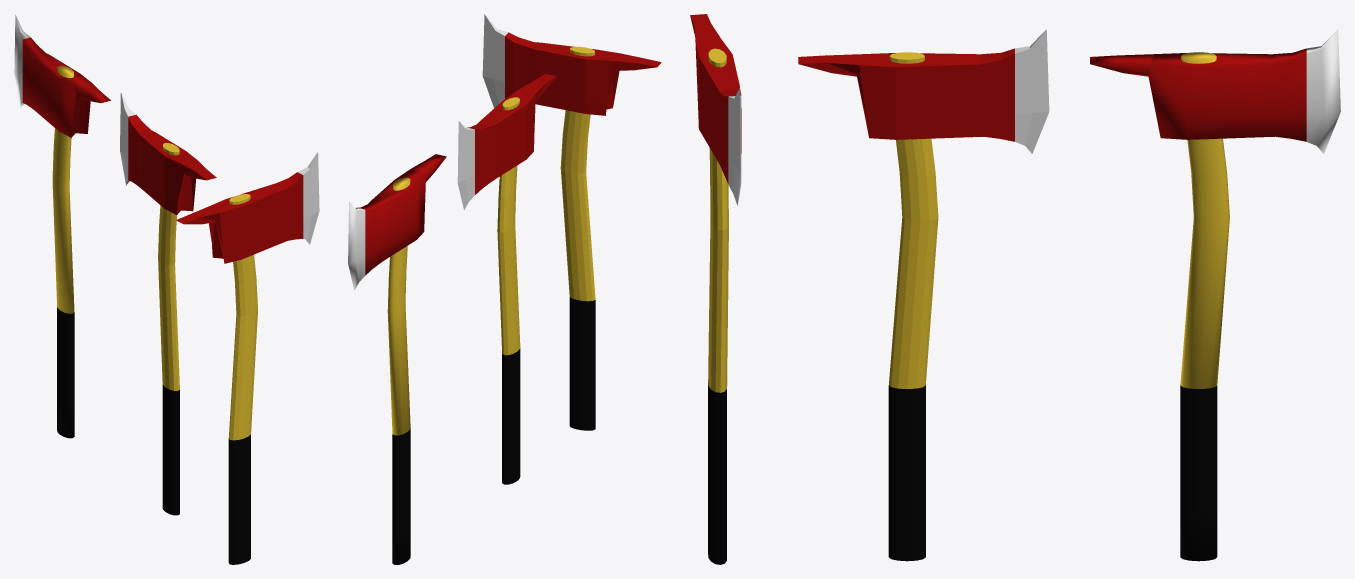
File: Fireaxe.fbx
The picture shows the model from 3 angles, left to right: view 1: azimuth 30°, elevation 25°; view 2: azimuth 150°, elevation 25°; view 3: azimuth 270°, elevation 25°; orthographic projection. The views are drawn at different scales.
Visible parts, largest first — view 1: handle.001, handle.002, blade, handle, grip, blade.001; view 2: handle.001, handle.002, blade, handle, grip, blade.001; view 3: handle.002, blade, handle.001, handle, grip, blade.001.
Part boxes in pixels (box(x1,y1,x2,y2)): handle.001: box(176, 152, 319, 564); handle.002: box(14, 14, 110, 438); blade: box(128, 114, 216, 214); handle: box(158, 143, 179, 390); grip: box(162, 385, 179, 515); blade.001: box(120, 92, 135, 185); handle.001: box(482, 14, 661, 430); handle.002: box(348, 154, 446, 564); blade: box(467, 73, 556, 194); handle: box(497, 97, 520, 355); grip: box(502, 348, 520, 484); blade.001: box(457, 121, 474, 210); handle.002: box(1090, 29, 1340, 561); blade: box(798, 48, 1014, 141); handle.001: box(690, 14, 741, 564); handle: box(889, 52, 938, 389); grip: box(888, 385, 925, 561); blade.001: box(1015, 29, 1049, 153).
Bounding box in the file's own units: 394 × 923 × 1031.
